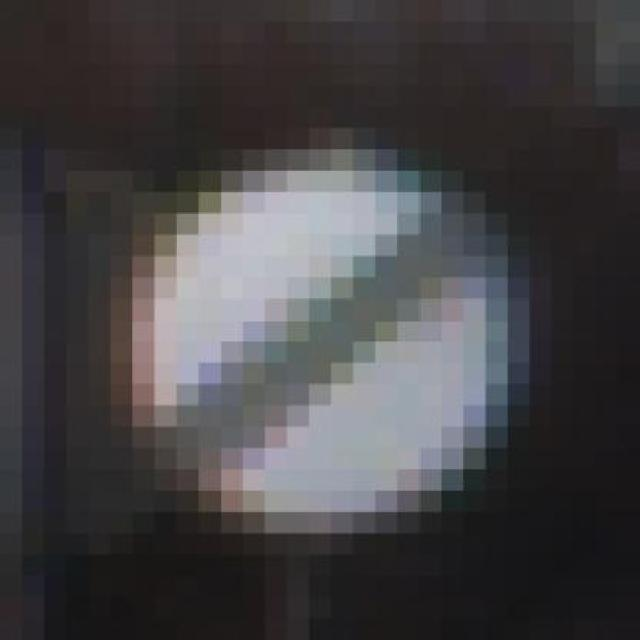End of all speed and passing limits: (88, 128, 574, 534)
